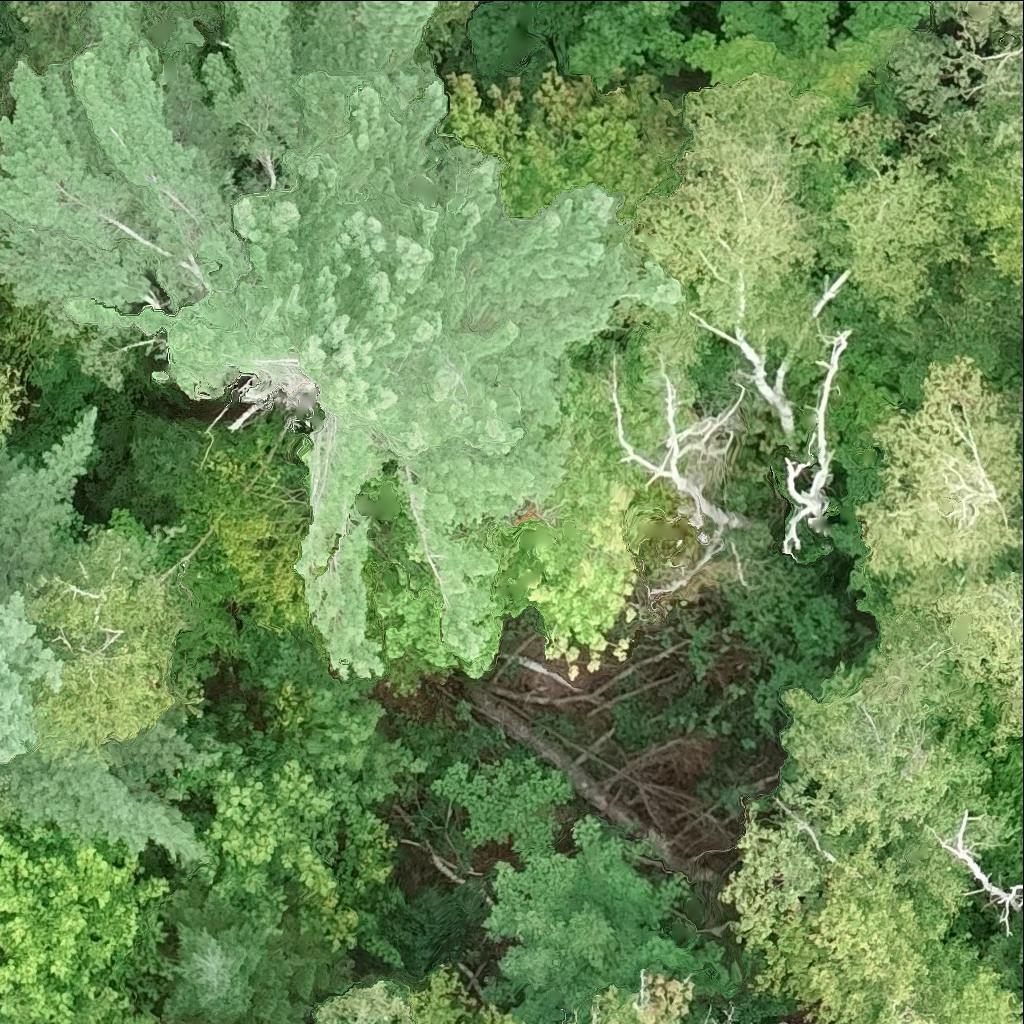crown: (0, 0, 681, 680), (142, 630, 428, 967), (0, 408, 207, 862), (378, 412, 657, 678), (86, 405, 316, 702), (732, 822, 1023, 1023), (622, 74, 842, 337), (482, 812, 697, 1023), (435, 68, 689, 236), (779, 634, 985, 839), (0, 806, 168, 1018), (23, 530, 189, 744), (816, 116, 973, 341), (859, 361, 1023, 576), (692, 0, 924, 104), (614, 381, 745, 564), (893, 581, 1023, 749), (931, 100, 1023, 297), (167, 895, 306, 1023), (785, 331, 850, 551), (930, 804, 1023, 925), (0, 972, 160, 1023), (587, 966, 694, 1023), (10, 0, 98, 64), (311, 975, 409, 1023), (939, 0, 1023, 43), (130, 0, 220, 31), (0, 346, 25, 456), (988, 735, 1023, 810), (420, 0, 474, 32), (998, 115, 1023, 149), (779, 0, 840, 10)
